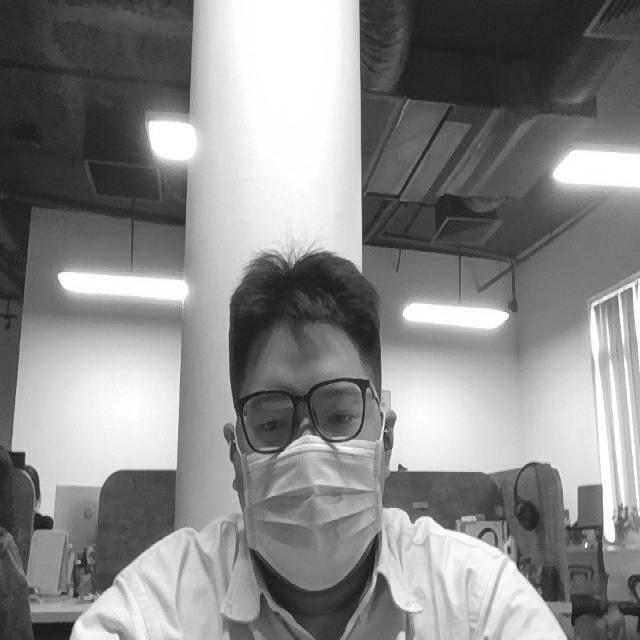fake: (243, 435, 387, 592)
real: (195, 221, 416, 607), (237, 373, 376, 442)
